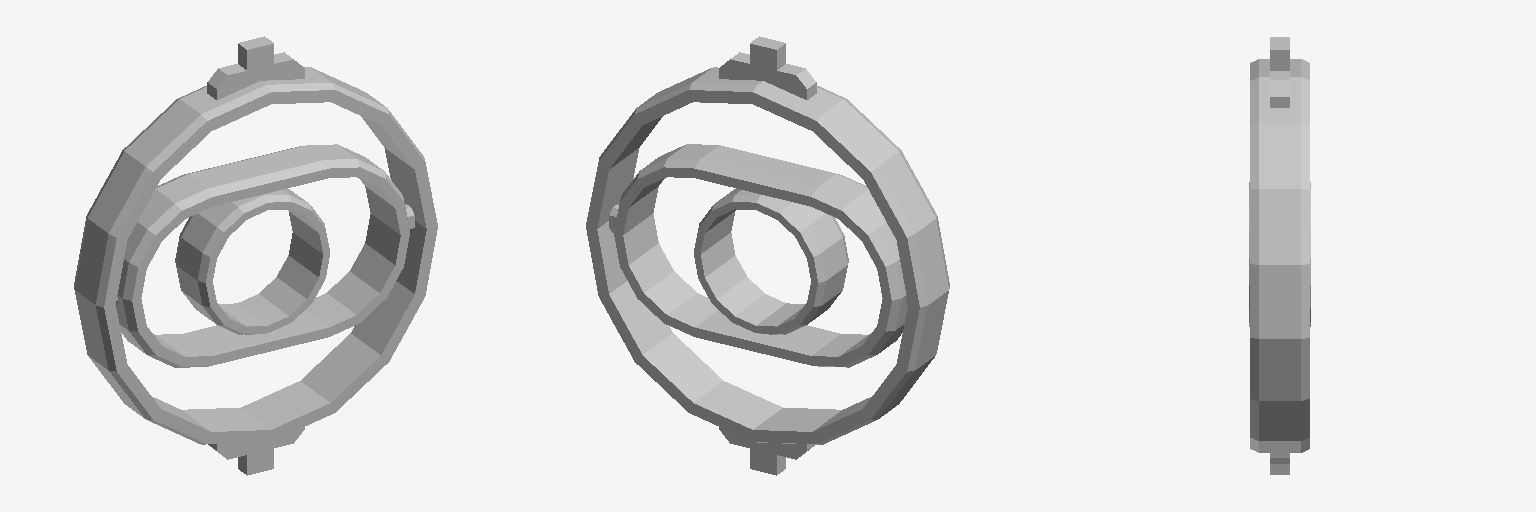
The model's file is tfpa_01_colossus_sphere_contents.obj.
The picture shows the model from 3 angles: view 1: azimuth 30°, elevation 25°; view 2: azimuth 150°, elevation 25°; view 3: azimuth 270°, elevation 25°; orthographic projection.
Visible parts, largest first — view 1: polySurface2Shape; view 2: polySurface2Shape; view 3: polySurface2Shape.
Part boxes in pixels (left/top/right/bottom): polySurface2Shape: left=74, top=36, right=437, bottom=475; polySurface2Shape: left=586, top=36, right=949, bottom=475; polySurface2Shape: left=1249, top=37, right=1310, bottom=474.
Size of the model in its own units: 0.0001 by 0.0001 by 0.